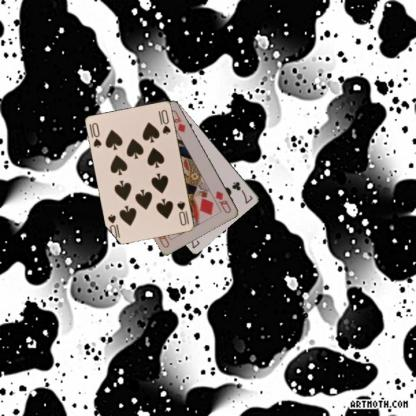10s: (174, 198, 190, 227), (89, 120, 103, 149)
7c: (229, 179, 254, 205)
Qd: (213, 188, 233, 214)
